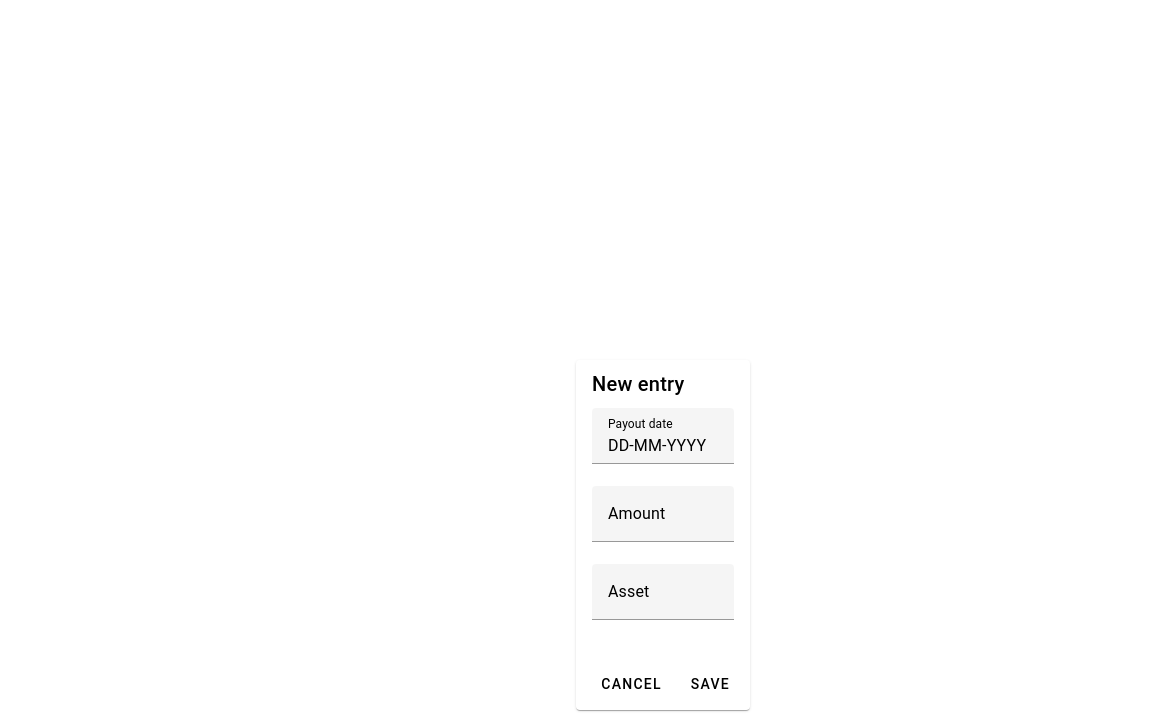
Test case: NewEntryDialog — validation › saves nothing and marks all three fields when the form is empty
Click the button "Save" at {"x": 710, "y": 684}, box [678,666,742,702]
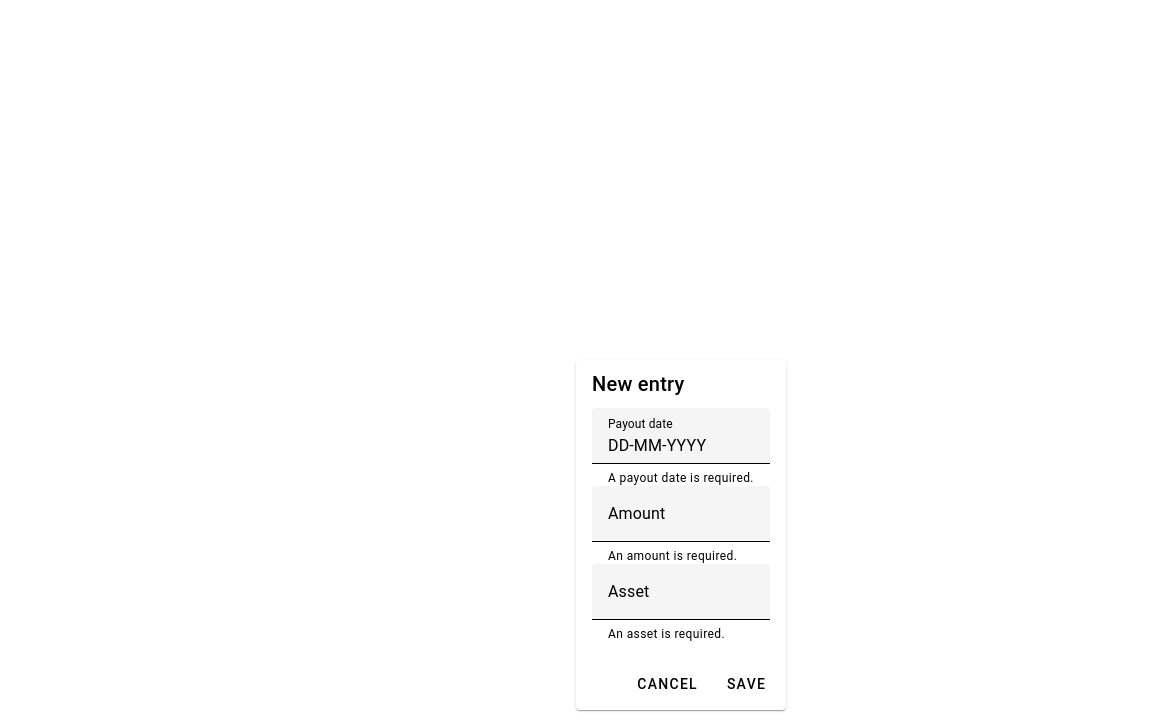
Expected: the text "A payout date is required." is shown, [608,472,754,484]
Expected: the text "An amount is required." is shown, [608,550,754,562]
Expected: the element showing "Asset An asset is required." is shown, [592,564,770,642]
